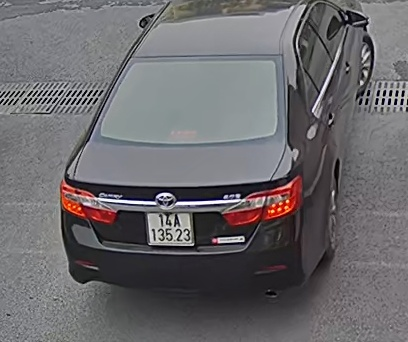vehicle plate: (141, 207, 192, 245)
